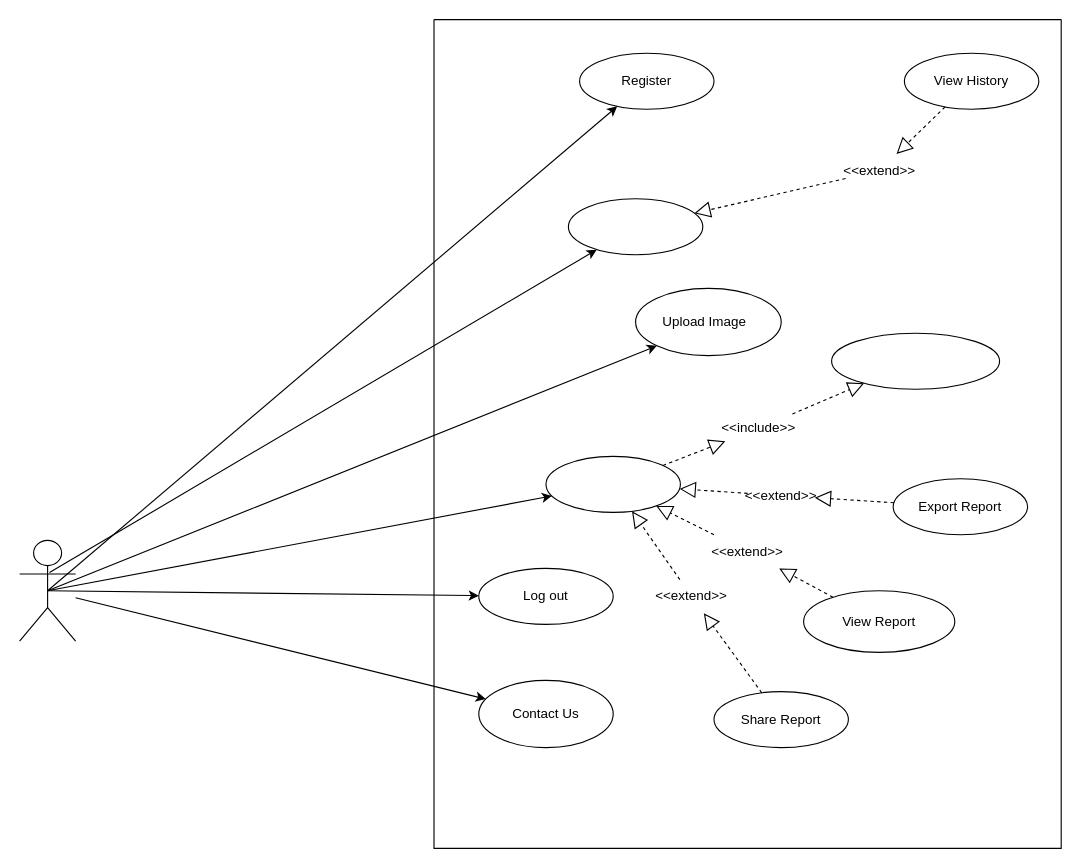
This 1081x868 diagram has some shape labels left out. The shapes that lost their labels are listed below. From the top down, each one's centre as x and y in pixels, then its label:
At [635,226]: "Login".
At [915,360]: "Trust Score".
At [612,483]: "View Result".
At [47,590]: "user".
